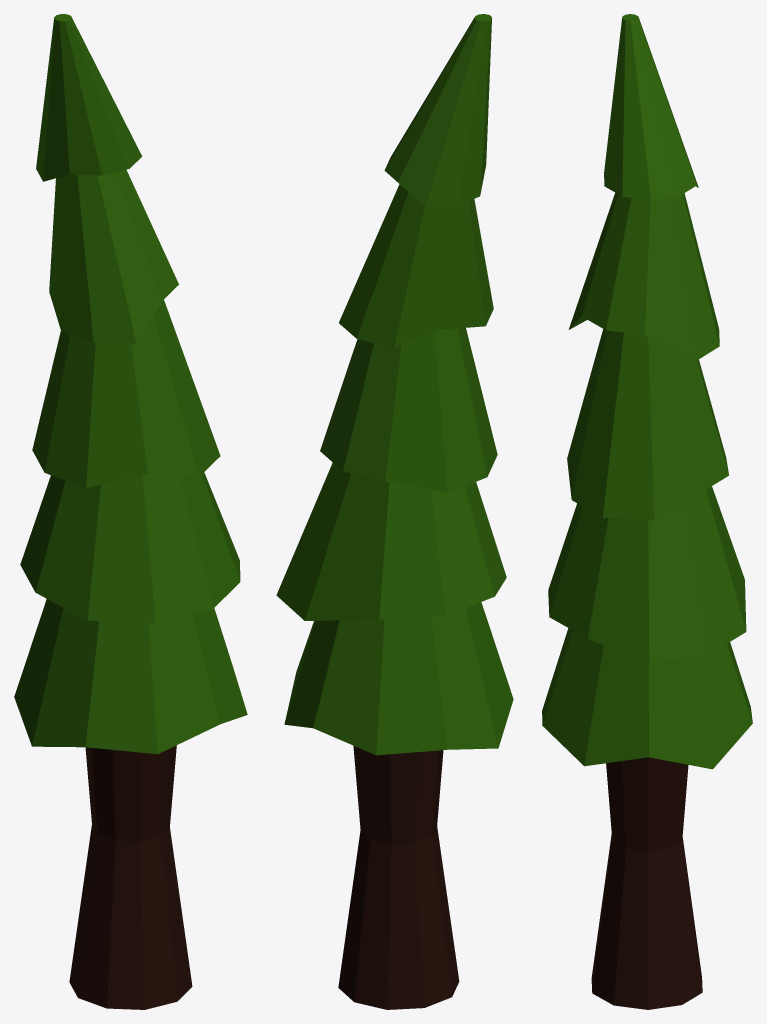
The model's file is Forest.blendD379C932-11C9-4E09-B687-B4B439D4B66E.obj.
3 renders of one model, left to right at view 1: azimuth 30°, elevation 25°; view 2: azimuth 150°, elevation 25°; view 3: azimuth 270°, elevation 25°, orthographic. The views are drawn at different scales.
Parts seen in each view (by area): view 1: t4-green_Cylinder.006; view 2: t4-green_Cylinder.006; view 3: t4-green_Cylinder.006.
Part boxes in pixels (x1,y1,x2,y2): t4-green_Cylinder.006: [14, 14, 247, 1009]; t4-green_Cylinder.006: [276, 14, 513, 1009]; t4-green_Cylinder.006: [542, 14, 752, 1009].
Size of the model in its own units: 2.24 by 10.09 by 2.07.
